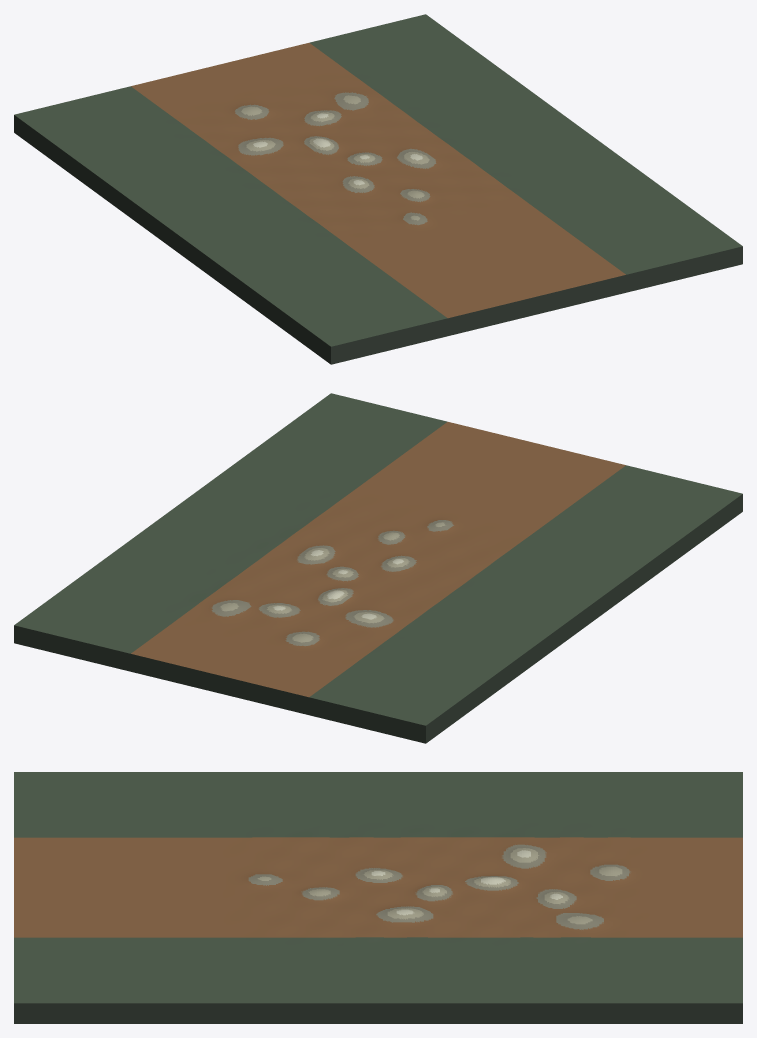
Rendered from rock_garden.dae.
3 renders of one model, top to bottom at view 1: azimuth 30°, elevation 25°; view 2: azimuth 150°, elevation 25°; view 3: azimuth 270°, elevation 25°, orthographic. The views are drawn at different scales.
Parts seen in each view (by area): view 1: terrain_node; view 2: terrain_node; view 3: terrain_node.
Boxes of the visible parts, left/top/right/bottom form: terrain_node: left=14, top=14, right=742, bottom=364; terrain_node: left=14, top=393, right=742, bottom=743; terrain_node: left=14, top=772, right=742, bottom=1023.
Bounding box in the file's own units: 6 × 8 × 0.3102.
